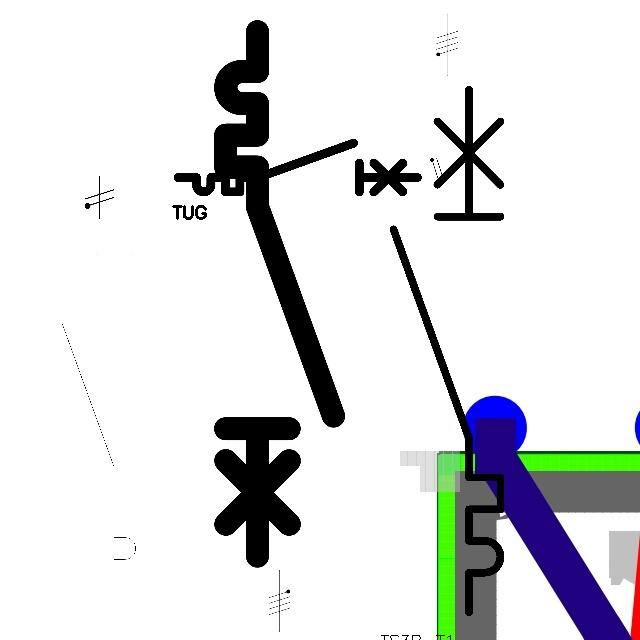interruptor_termomagnetico: (212, 18, 347, 570), (380, 76, 514, 625), (53, 218, 145, 595), (172, 137, 423, 198)
